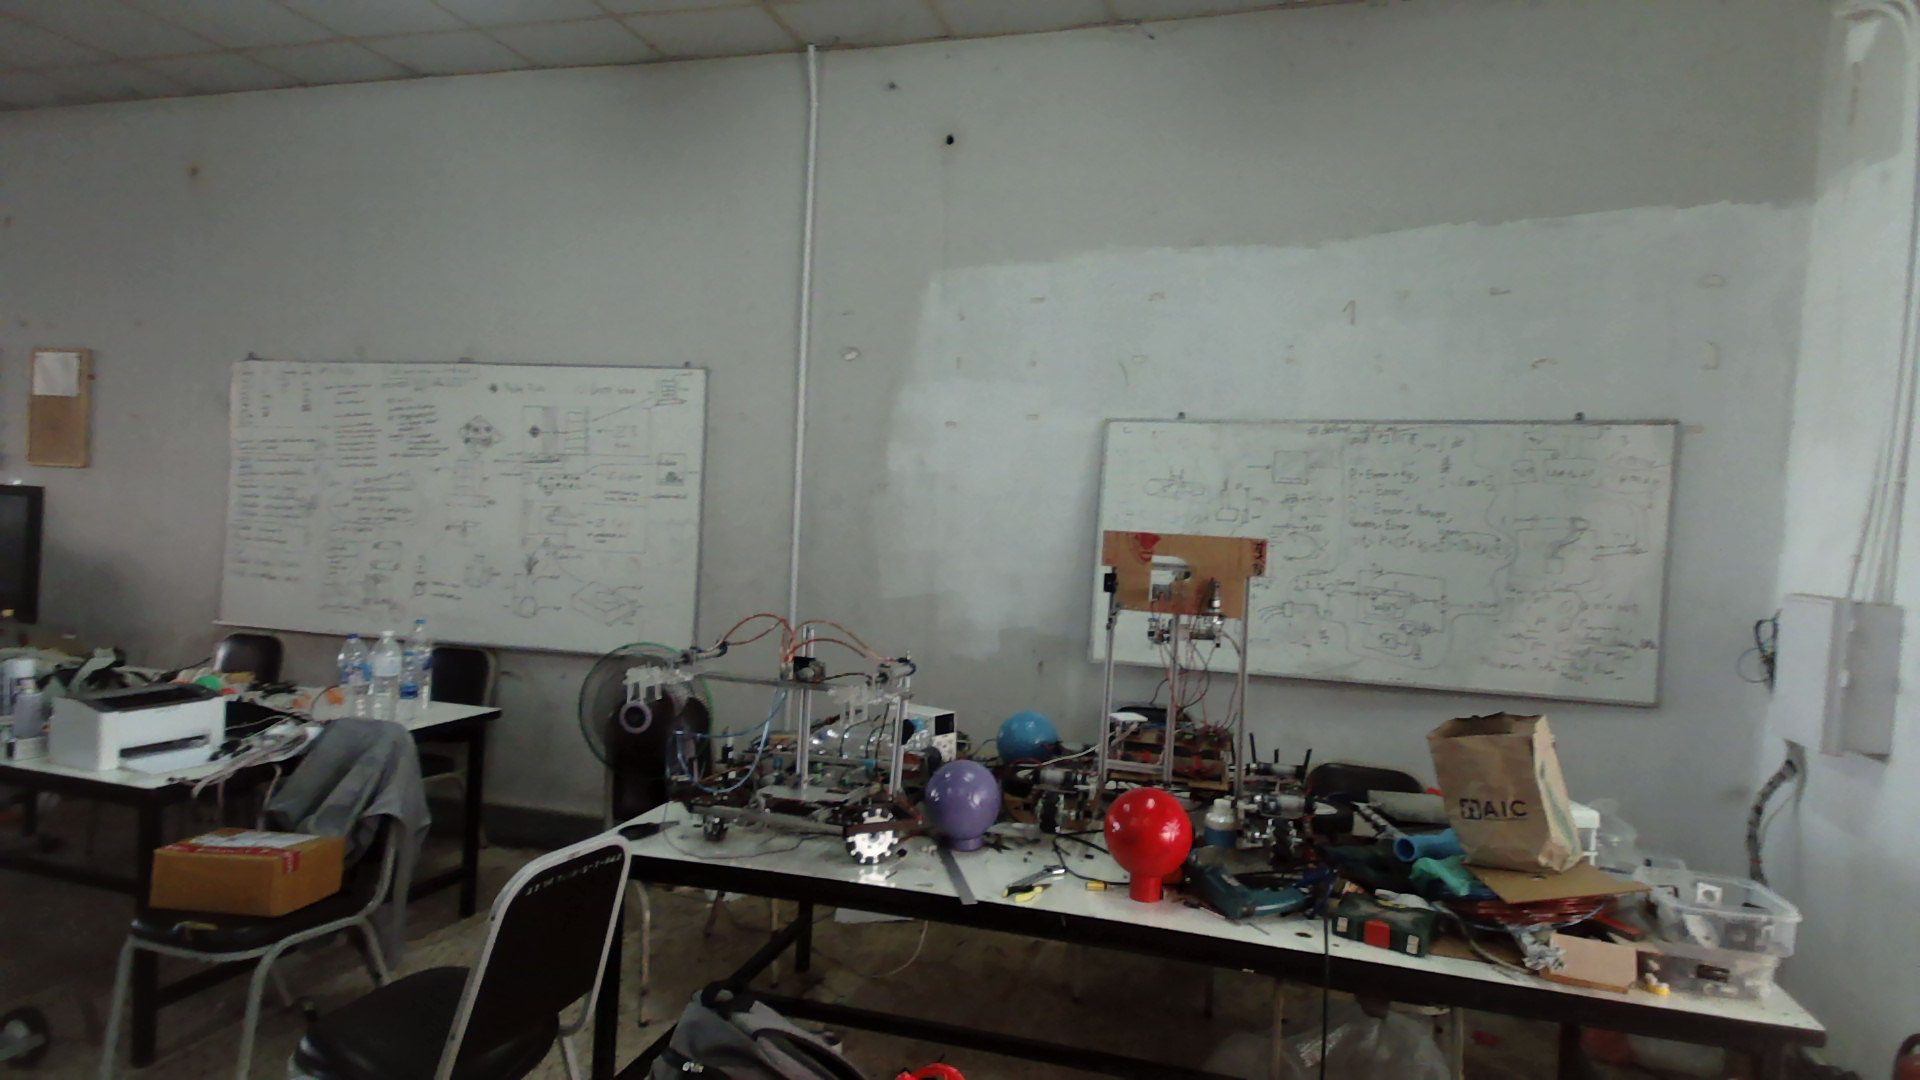Blue ball: (994, 708, 1059, 756)
Purple ball: (924, 757, 1002, 843)
Red ball: (1102, 786, 1195, 880)
